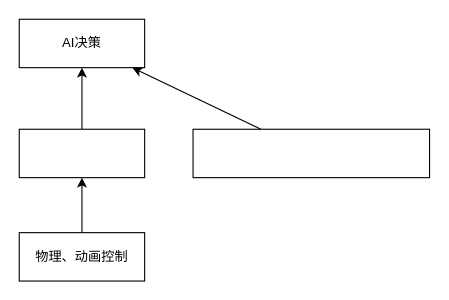
The diagram is 449 pixels wide and 300 high, and some of its shapes have lost their labels. The shapes that lost their labels are listed below. From the top down, each one's centre as x and y in pixels, then its label:
At [81,153]: "寻路移动能力".
At [311,153]: "玩法规则、技能、网络同步等等".
